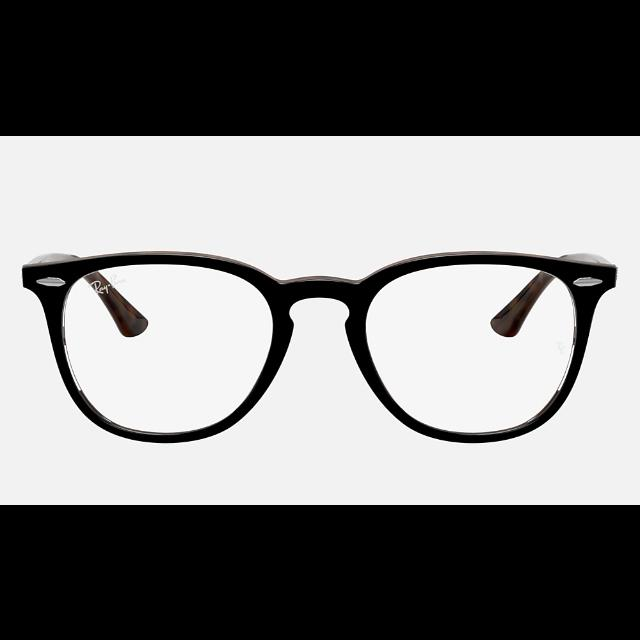glasses: (24, 249, 618, 441)
